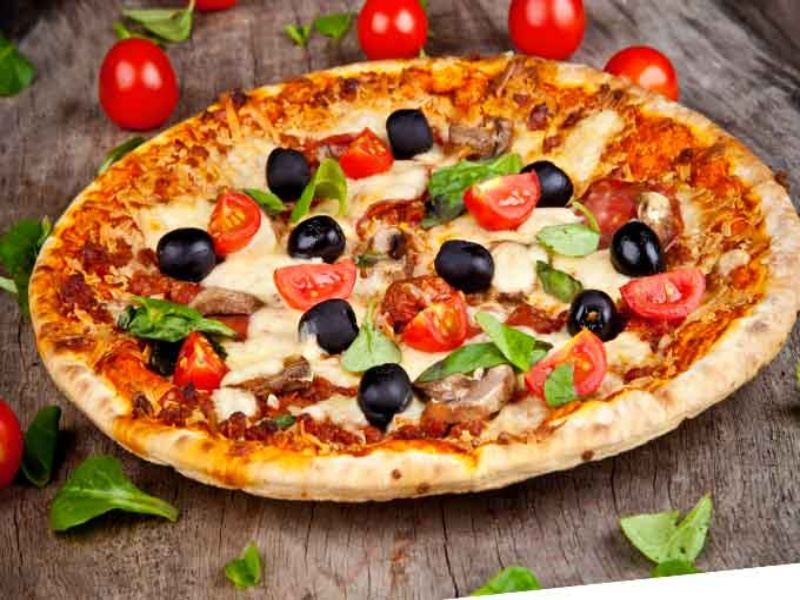olive noir: (428, 236, 506, 293), (346, 360, 421, 419), (297, 294, 361, 353), (260, 144, 323, 199), (280, 210, 349, 260), (151, 229, 223, 276), (566, 285, 627, 337), (380, 110, 440, 154), (611, 223, 661, 273)
